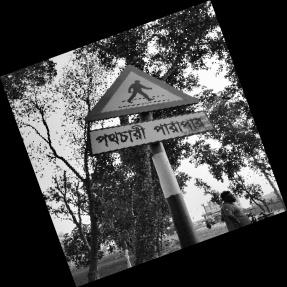Pedestrian-crossing: (86, 64, 212, 157)
